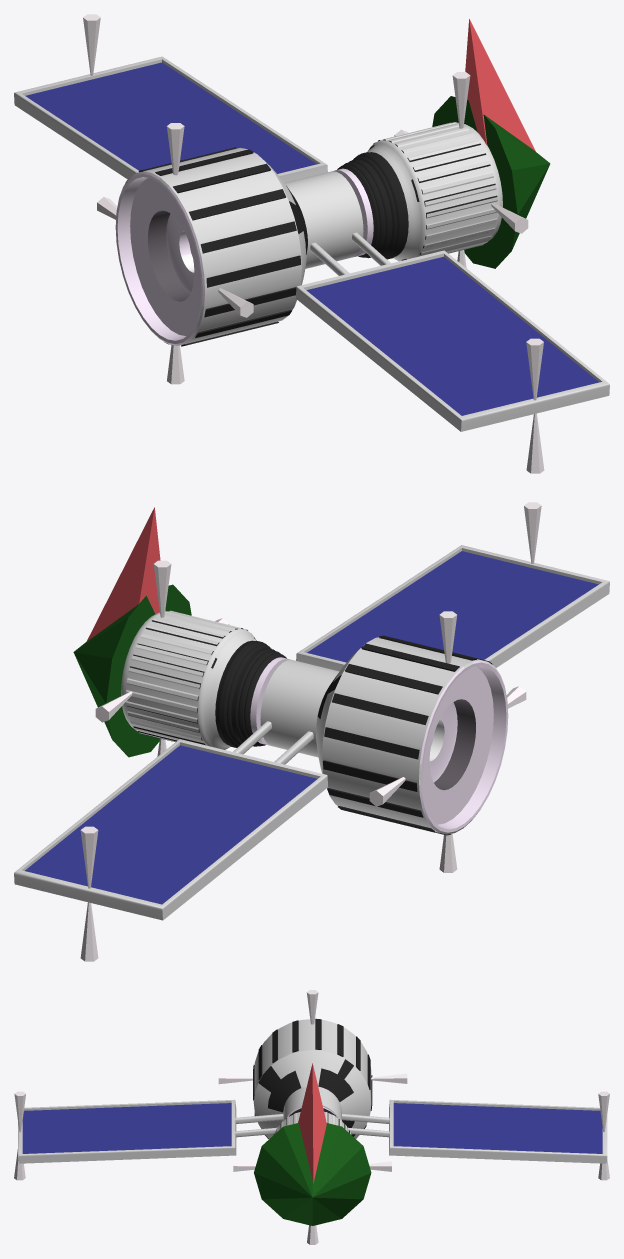
File: Satellite.obj
3 views of the same model, one above another, from view 1: azimuth 30°, elevation 25°; view 2: azimuth 150°, elevation 25°; view 3: azimuth 270°, elevation 25° (orthographic). The views are drawn at different scales.
Parts seen in each view (by area): view 1: Placas_Cylinder.001, Satélite_Cylinder.004, Shild_Cone.001, Couro_Cylinder, Cone.001_Cone.002.000, Cone_Cone.001, Cone.001_Cone.002, Cone.003_Cone.004, Cone.006_Cone.007, Cone.004_Cone.005; view 2: Placas_Cylinder.001, Satélite_Cylinder.004, Shild_Cone.001, Couro_Cylinder, Cone.001_Cone.002.000, Cone.001_Cone.002, Cone_Cone.001, Cone.002_Cone.003, Cone.006_Cone.007, Cone.004_Cone.005; view 3: Placas_Cylinder.001, Satélite_Cylinder.004, Shild_Cone.001, Cone.001_Cone.002.000.
Boxes of the visible parts, left/top/right/bottom form: Placas_Cylinder.001: left=14, top=56, right=609, bottom=431; Satélite_Cylinder.004: left=115, top=122, right=502, bottom=346; Shild_Cone.001: left=432, top=96, right=550, bottom=268; Couro_Cylinder: left=337, top=152, right=408, bottom=259; Cone.001_Cone.002.000: left=465, top=19, right=535, bottom=151; Cone_Cone.001: left=526, top=338, right=543, bottom=400; Cone.001_Cone.002: left=83, top=14, right=100, bottom=75; Cone.003_Cone.004: left=526, top=413, right=544, bottom=473; Cone.006_Cone.007: left=452, top=72, right=470, bottom=128; Cone.004_Cone.005: left=166, top=123, right=184, bottom=175; Placas_Cylinder.001: left=14, top=545, right=609, bottom=920; Satélite_Cylinder.004: left=121, top=610, right=508, bottom=835; Shild_Cone.001: left=73, top=584, right=191, bottom=757; Couro_Cylinder: left=215, top=640, right=286, bottom=747; Cone.001_Cone.002.000: left=86, top=507, right=165, bottom=641; Cone.001_Cone.002: left=80, top=826, right=98, bottom=888; Cone_Cone.001: left=524, top=502, right=541, bottom=563; Cone.002_Cone.003: left=80, top=902, right=98, bottom=961; Cone.006_Cone.007: left=153, top=560, right=171, bottom=617; Cone.004_Cone.005: left=439, top=611, right=457, bottom=663; Placas_Cylinder.001: left=18, top=1099, right=607, bottom=1163; Satélite_Cylinder.004: left=253, top=1018, right=372, bottom=1139; Shild_Cone.001: left=254, top=1123, right=371, bottom=1225; Cone.001_Cone.002.000: left=298, top=1063, right=326, bottom=1183.
Size of the model in its own units: 5.06 by 3.6 by 10.13.
